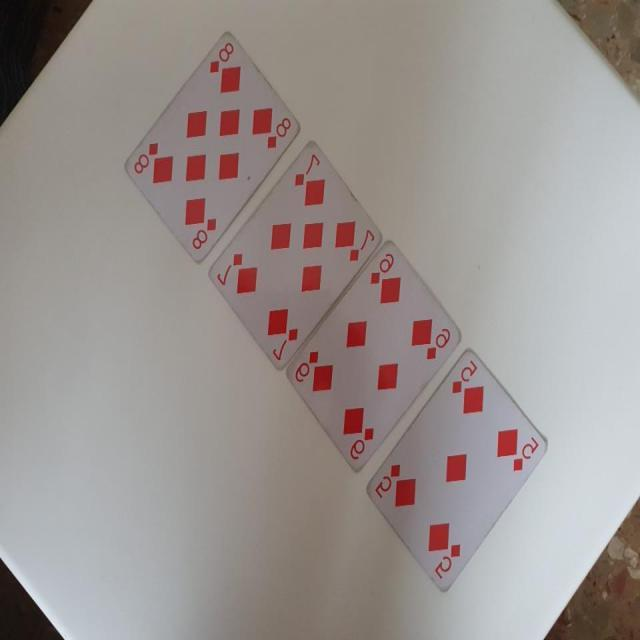5 of diamonds: (364, 341, 554, 594)
6 of diamonds: (286, 242, 466, 477)
7 of diamonds: (206, 138, 384, 376)
8 of diamonds: (122, 30, 303, 266)
